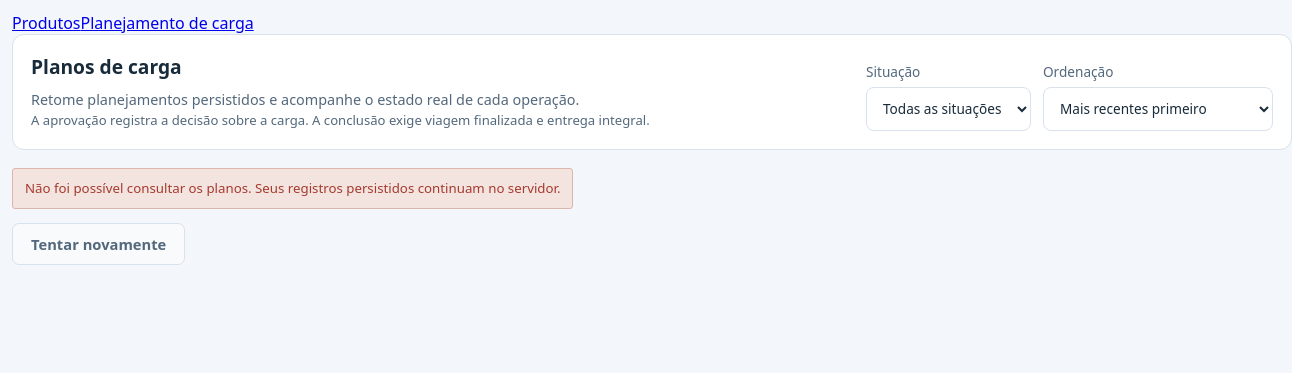
Test case: PlanHistory › mostra falha e tenta novamente sem converter erro em vazio
The image size is (1292, 373).
expect the message shows "Não foi possível": met, box [25,179,560,197]
Click the button "Tentar novamente".
click(99, 244)  # box [12,223,185,265]
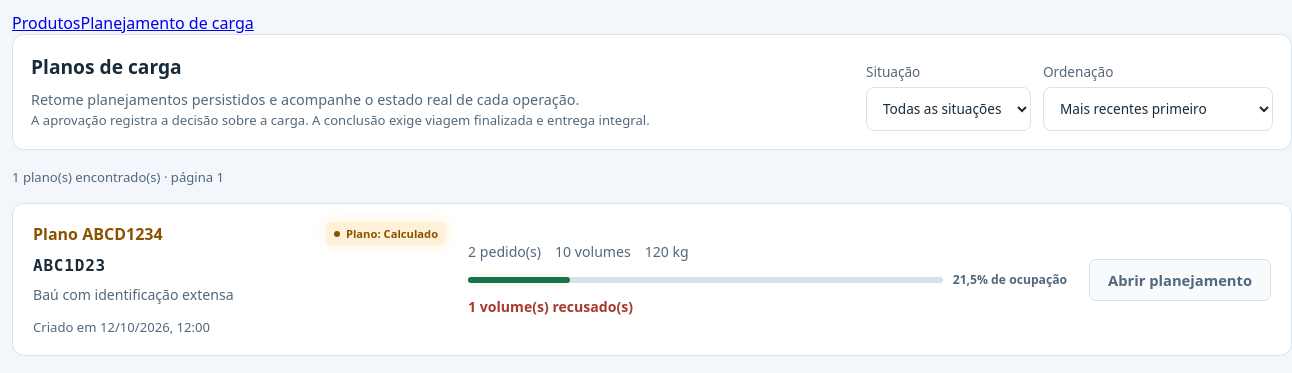
expect the link "ABC1D23" is shown: met, box [33,256,106,275]
